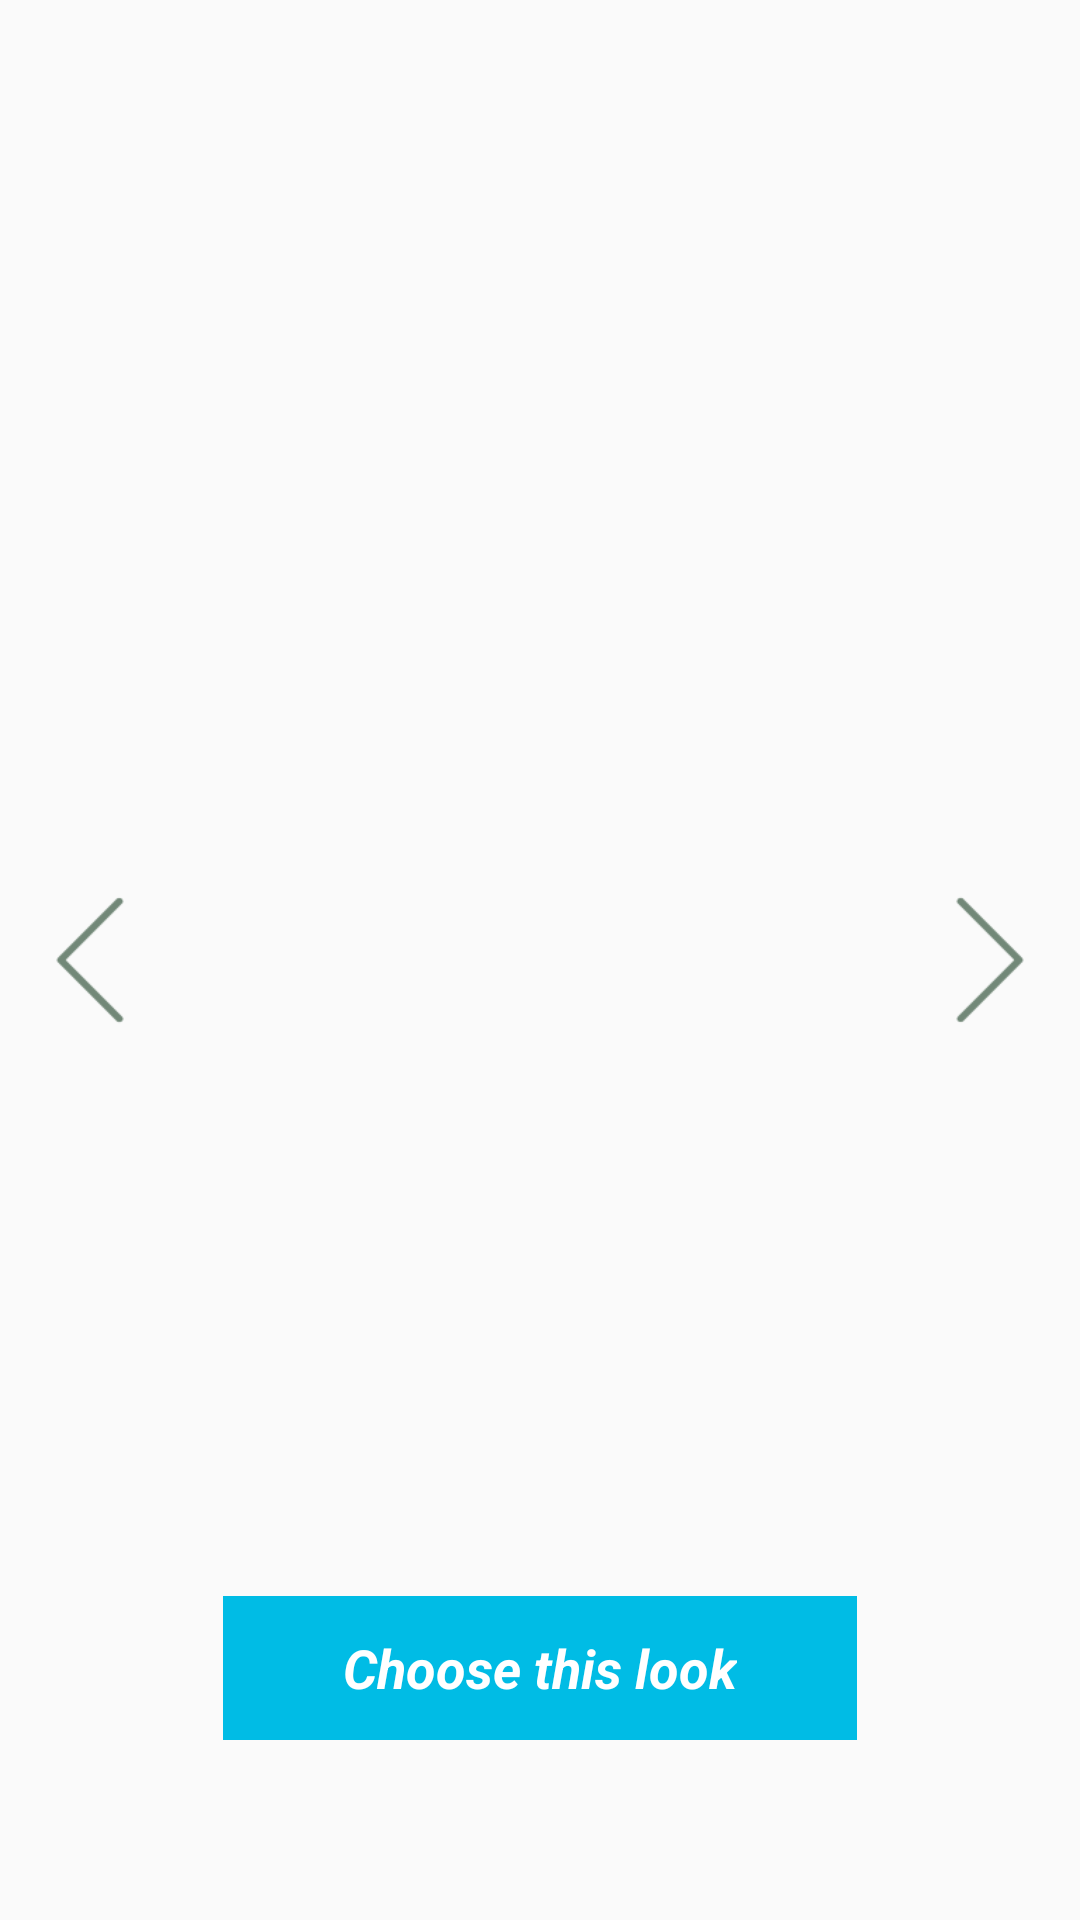

Where to tap for icons on this 1080px×1920px app screen, as [x,y]:
arrow left: [90,960]
arrow right: [990,960]
